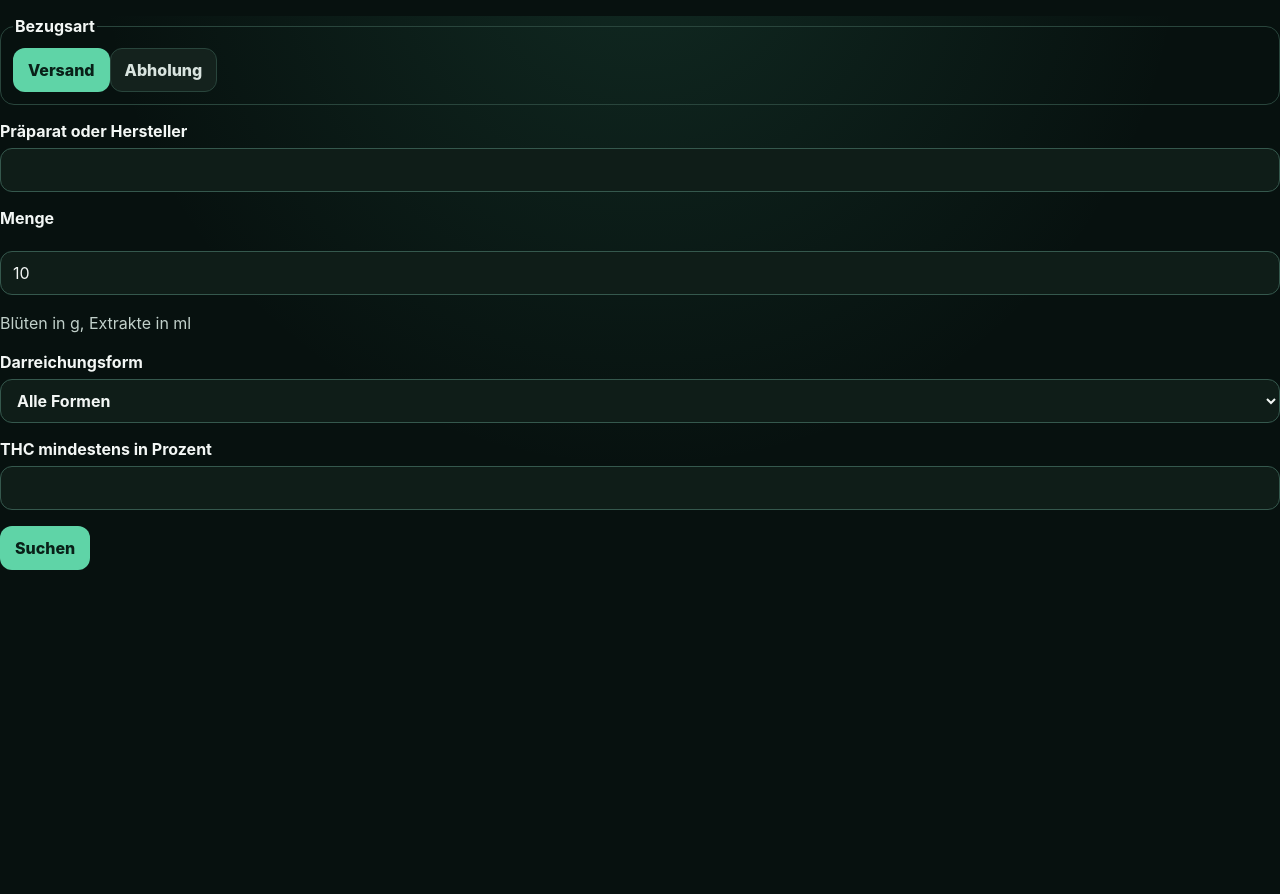
Test: ignores an older error after a newer search succeeds
Type "Alpha" into the search field at (640, 170), box [0,148,1279,192]
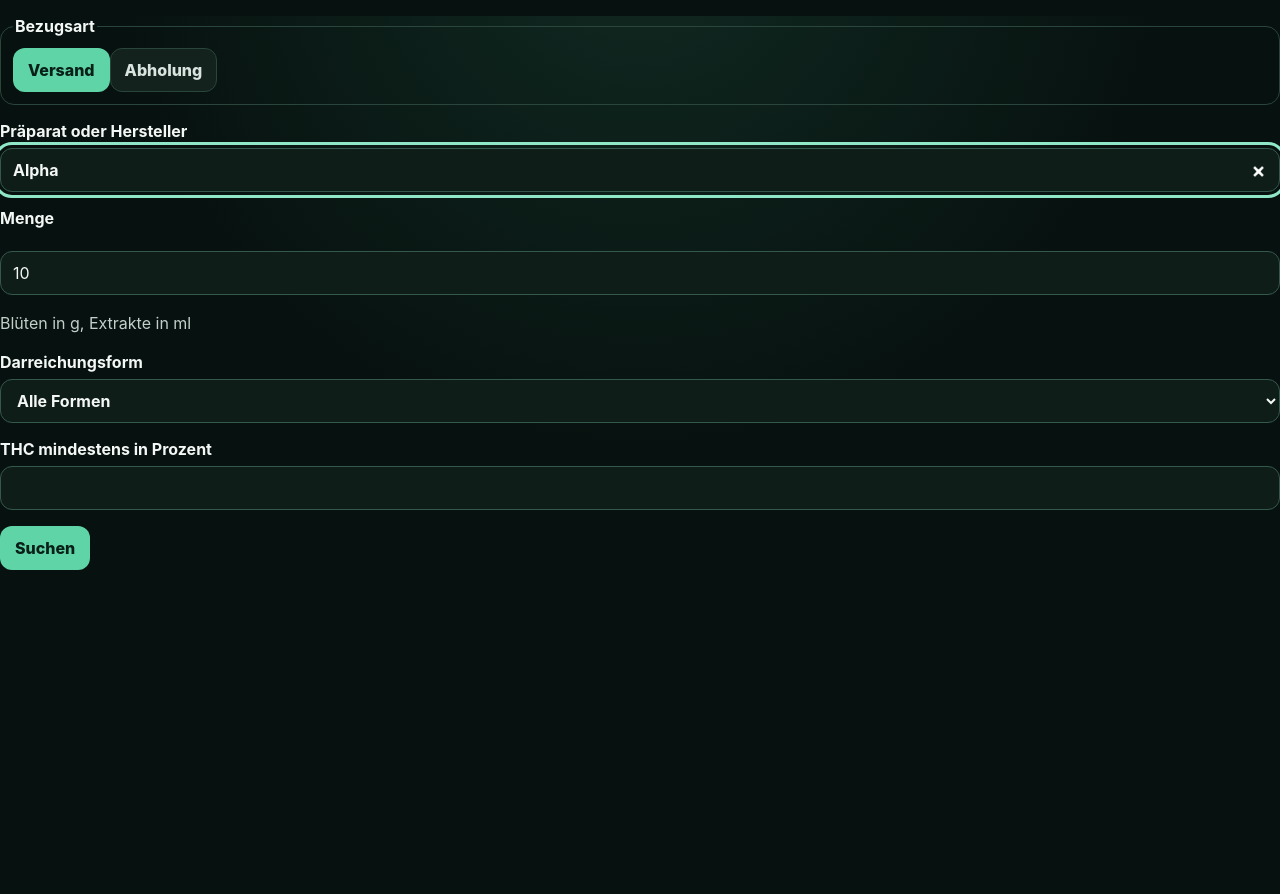
Click the button "Suchen" at (45, 548), box [0,526,90,570]
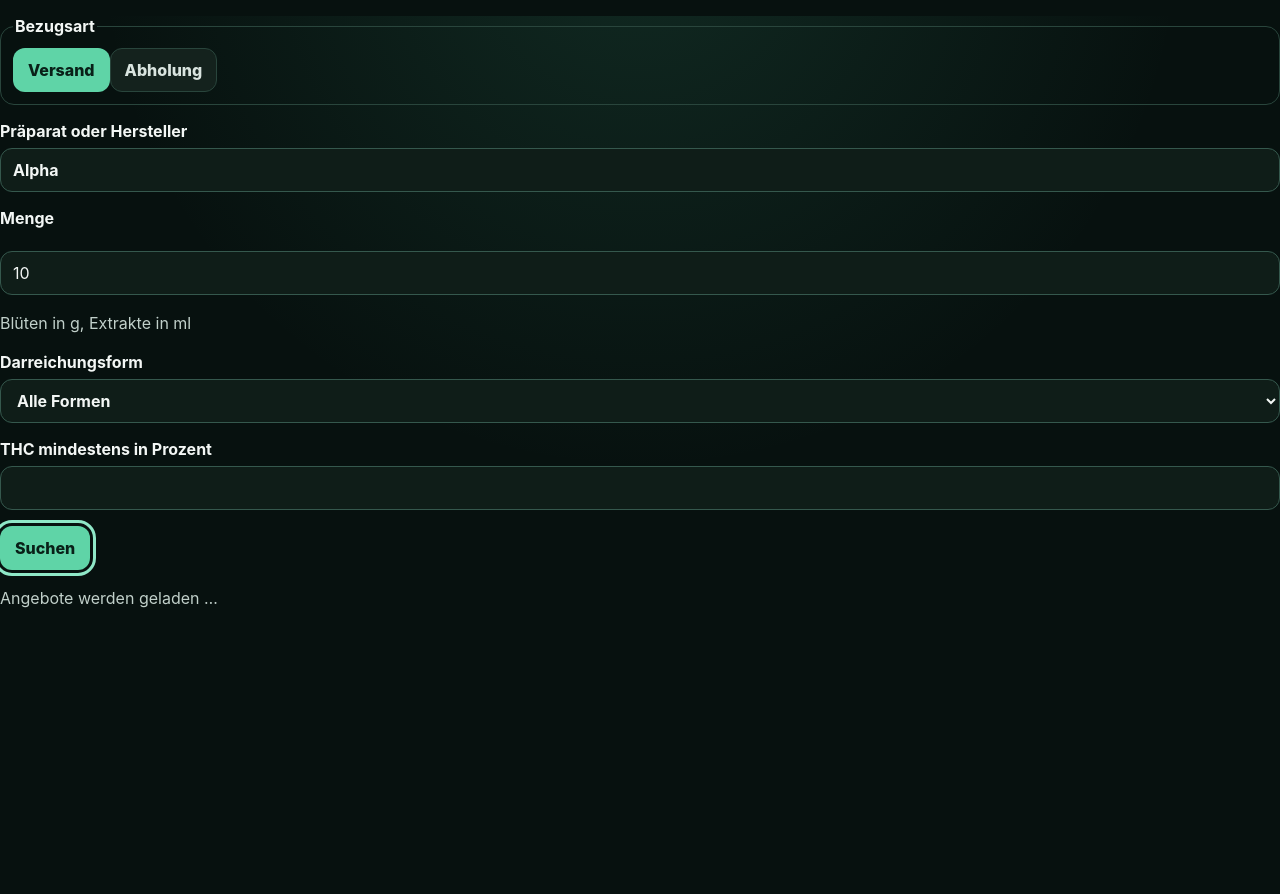
Replace the text in the search field with "Beta" at (640, 170), box [0,148,1279,192]
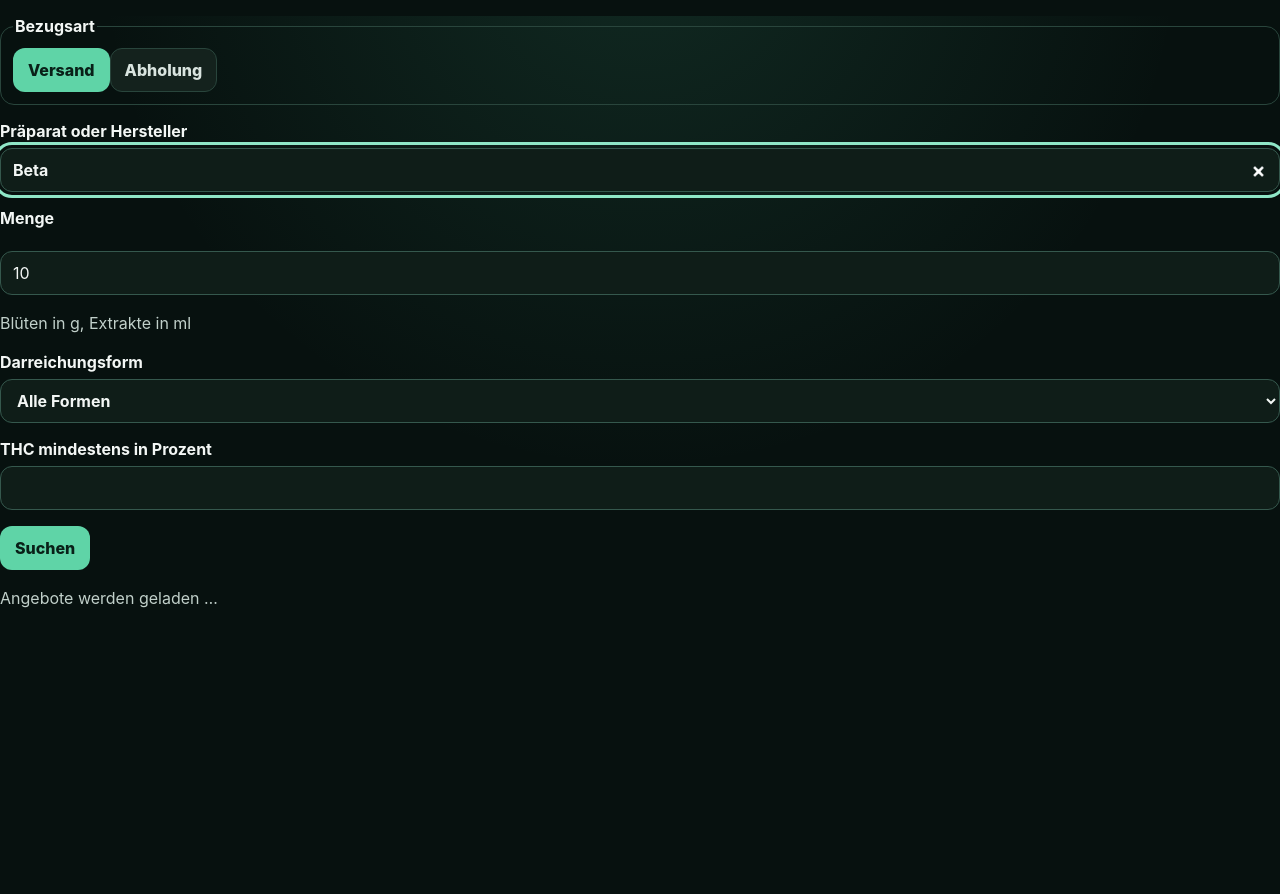
Click the button "Suchen" at (45, 548), box [0,526,90,570]
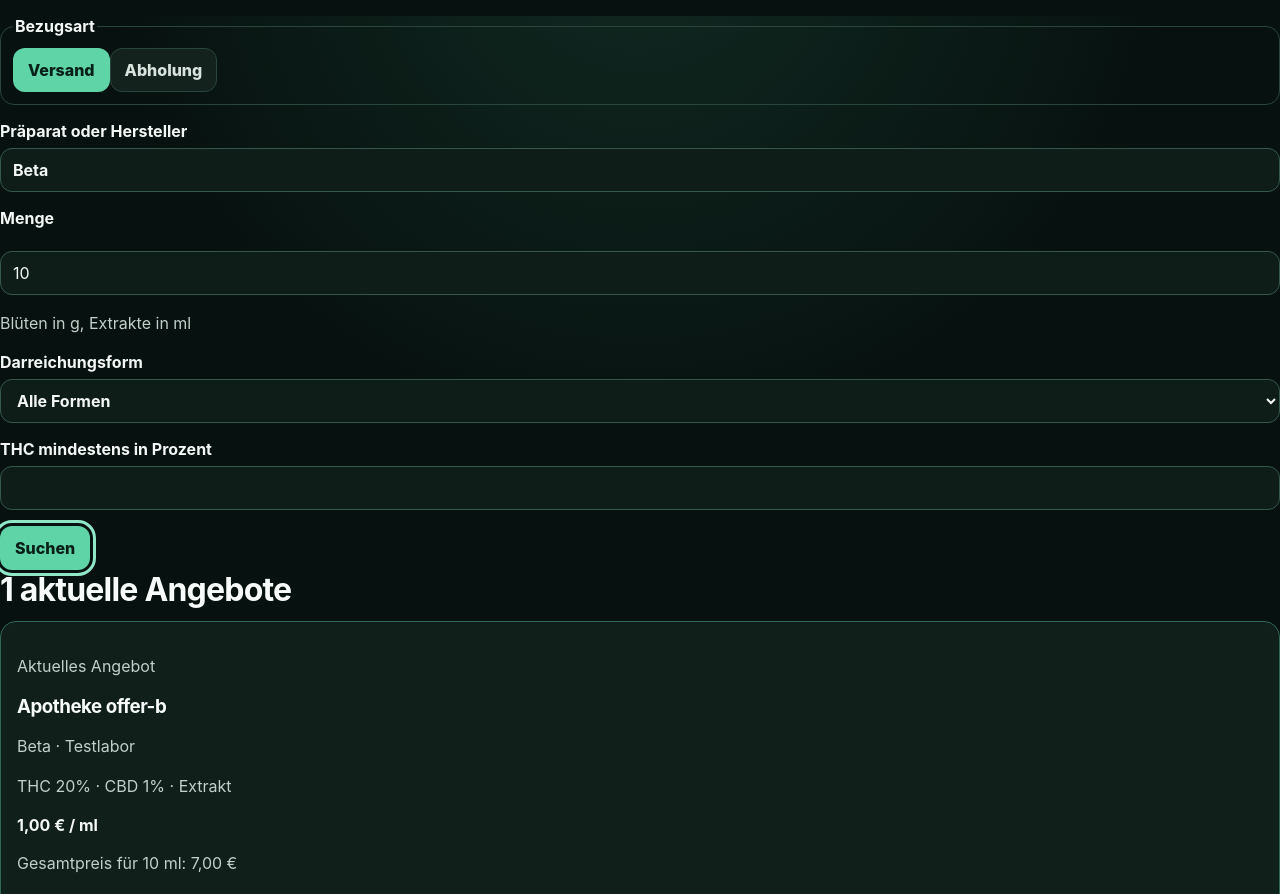
Check: the message "Angebote werden geladen …" is gone
Check: the text "Beta · Testlabor" is shown, box [17,736,135,756]
